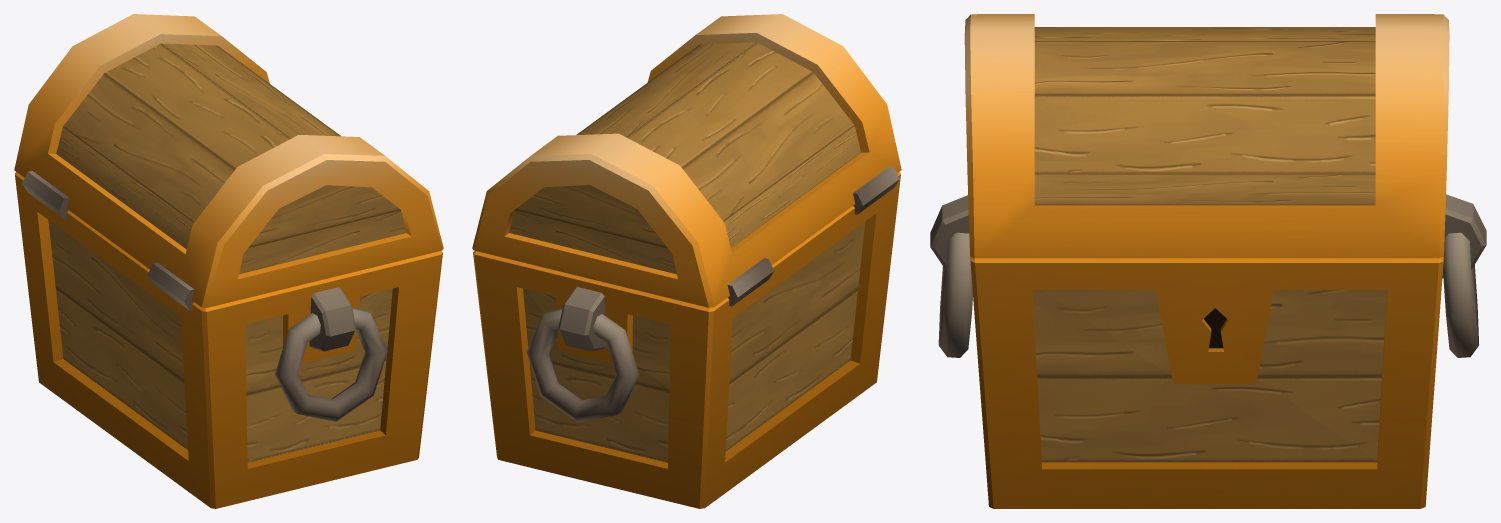
Rendered from Chest_01.fbx.
3 views of the same model, side by side, from view 1: azimuth 30°, elevation 25°; view 2: azimuth 150°, elevation 25°; view 3: azimuth 270°, elevation 25° (orthographic). The views are drawn at different scales.
Visible parts, largest first — view 1: Chest, Lid; view 2: Chest, Lid; view 3: Chest, Lid.
Boxes of the visible parts, bbox=[...] form: Chest: bbox=[15, 171, 442, 508]; Lid: bbox=[14, 14, 443, 307]; Chest: bbox=[473, 166, 900, 508]; Lid: bbox=[472, 14, 901, 307]; Chest: bbox=[930, 194, 1486, 508]; Lid: bbox=[964, 14, 1449, 258].
Bounding box in the file's own units: 3.44 × 4.42 × 5.35.
